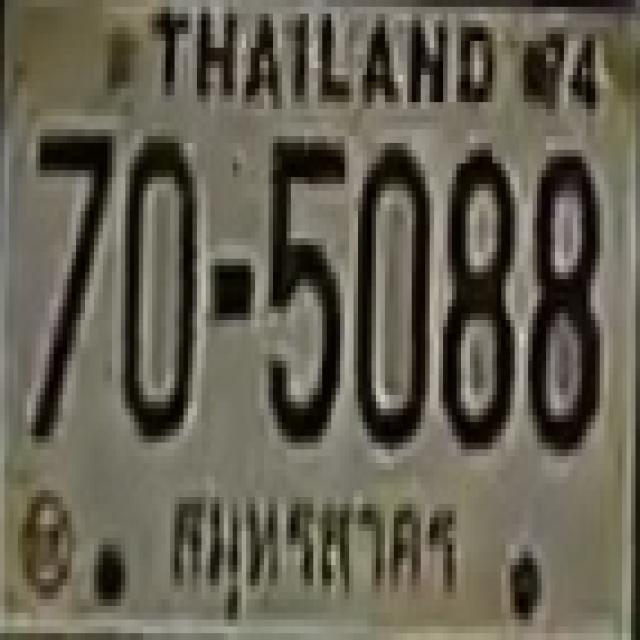0: (119, 129, 194, 436), (354, 136, 425, 443)
5: (264, 136, 345, 436)
7: (31, 126, 112, 432)
8: (439, 143, 510, 443), (524, 143, 595, 443)
SKN: (158, 473, 472, 631)
